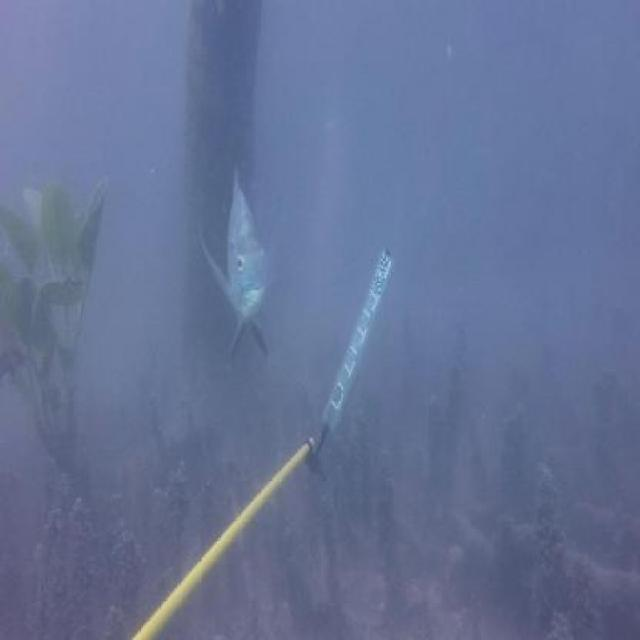acanthopagrus_palmaris: (204, 158, 285, 368)
